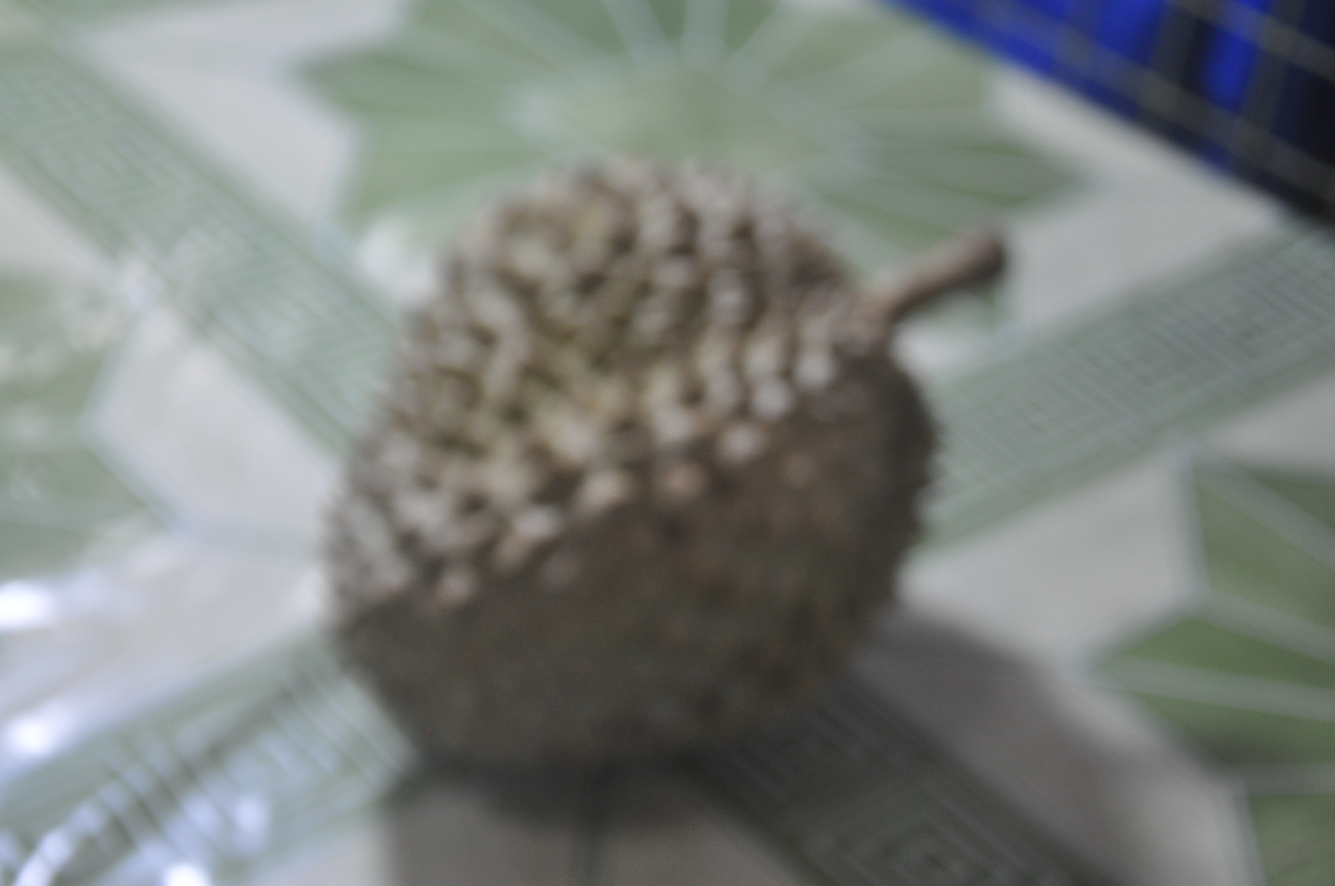mature: (241, 105, 1048, 807)
